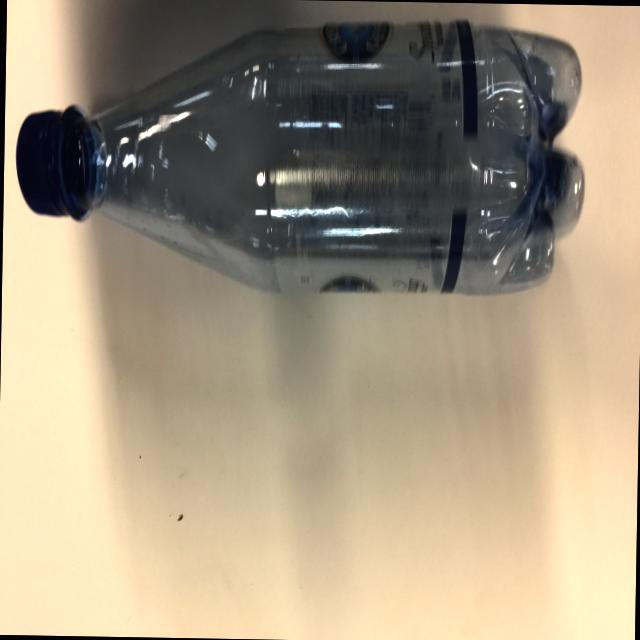Plastic: (0, 0, 626, 362)
